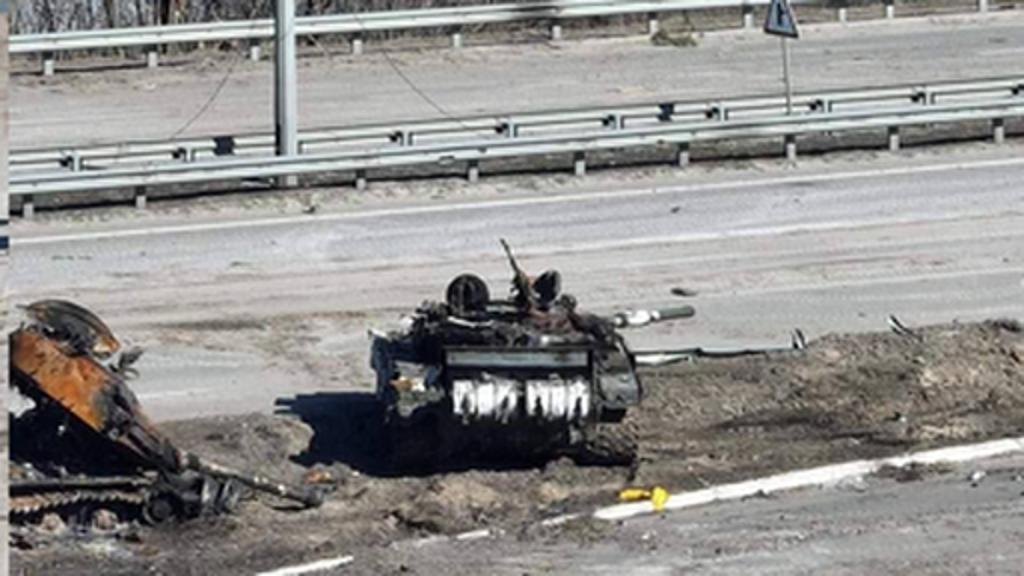TANK: (368, 272, 702, 484)
